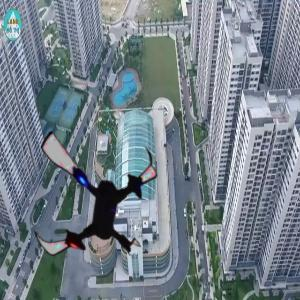drone: (16, 121, 168, 273)
